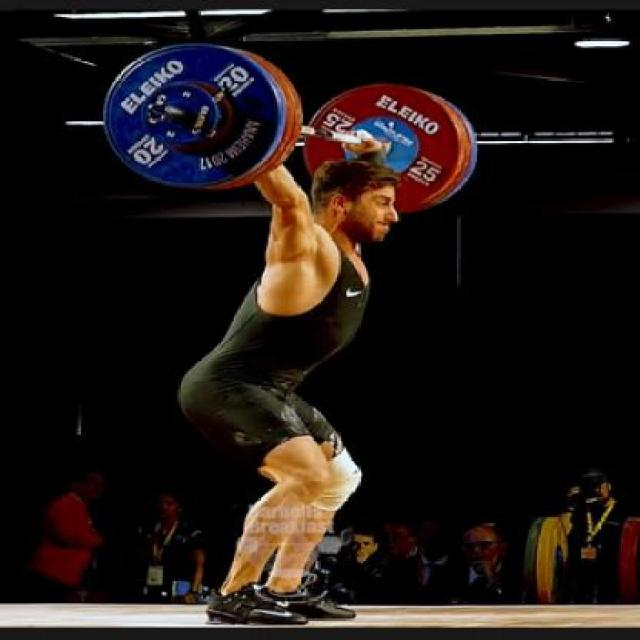barbell: (92, 34, 333, 222)
